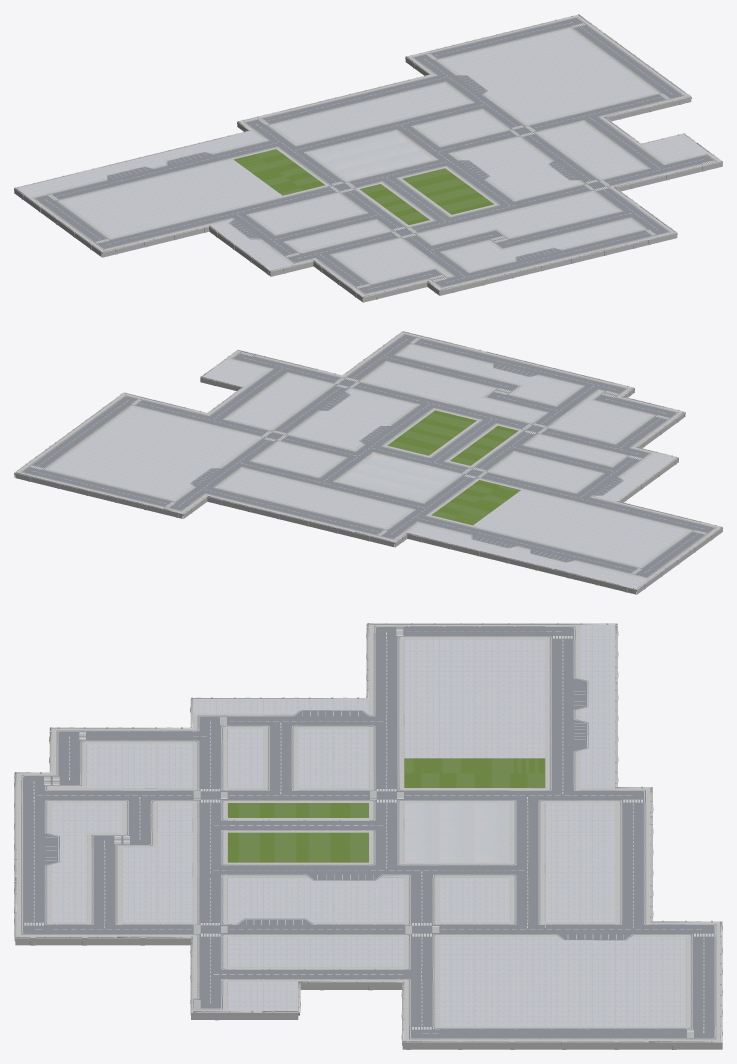
File: niuyue.fbx
3 renders of one model, top to bottom at view 1: azimuth 30°, elevation 25°; view 2: azimuth 150°, elevation 25°; view 3: azimuth 270°, elevation 25°, orthographic. The views are drawn at different scales.
Parts seen in each view (by area): view 1: bing_1.015, 001, bing_1.005, bing_1.001; view 2: bing_1.015, 001, bing_1.005, bing_1.001; view 3: bing_1.015, 001, bing_1.005, bing_1.001.
Part boxes in pixels (x1,y1,x2,y2): bing_1.015: (17,15,719,296); 001: (14,14,722,302); bing_1.005: (105,74,581,261); bing_1.001: (48,23,714,288); bing_1.015: (17,332,719,588); 001: (14,331,722,594); bing_1.005: (190,363,623,562); bing_1.001: (30,338,706,573); bing_1.015: (16,624,720,1040); 001: (14,623,722,1049); bing_1.005: (44,676,636,940); bing_1.001: (24,627,713,1037).
Size of the model in its own units: 28137 by 264 by 20118.
